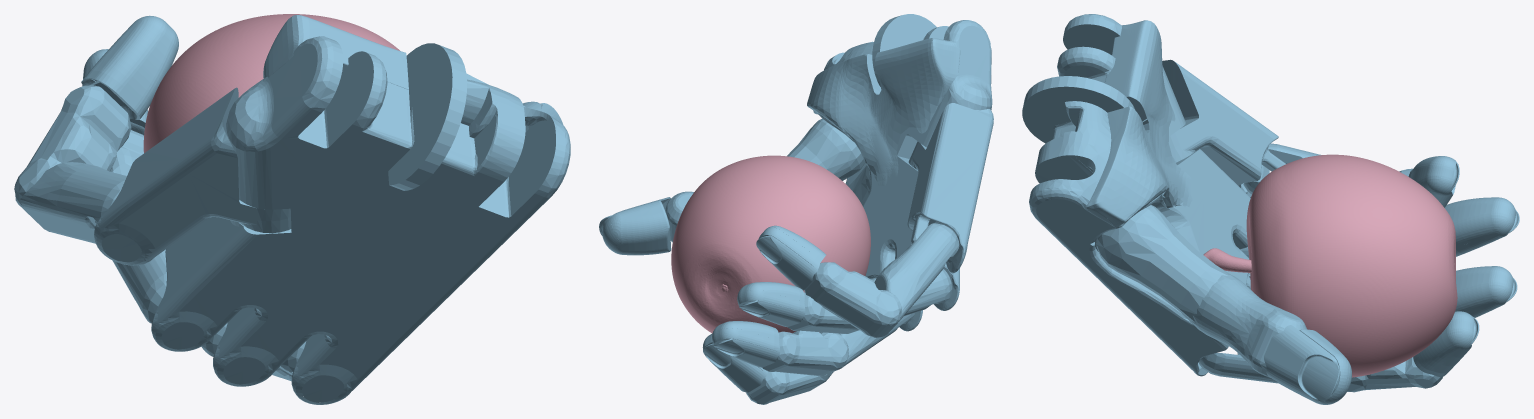
3 views of the same model, side by side, from view 1: azimuth 30°, elevation 25°; view 2: azimuth 150°, elevation 25°; view 3: azimuth 270°, elevation 25° (orthographic). The views are drawn at different scales.
Visible parts, largest first — view 1: world; view 2: world; view 3: world.
Part boxes in pixels (<box>): world: <box>14,14,570,404</box>; world: <box>599,14,993,404</box>; world: <box>1022,14,1519,404</box>.
Bounding box in the file's own units: 0.1544 × 0.1316 × 0.1699.
